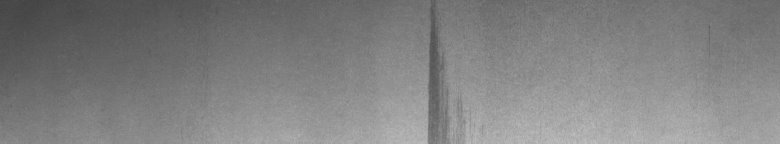hd: (422, 4, 462, 136)
